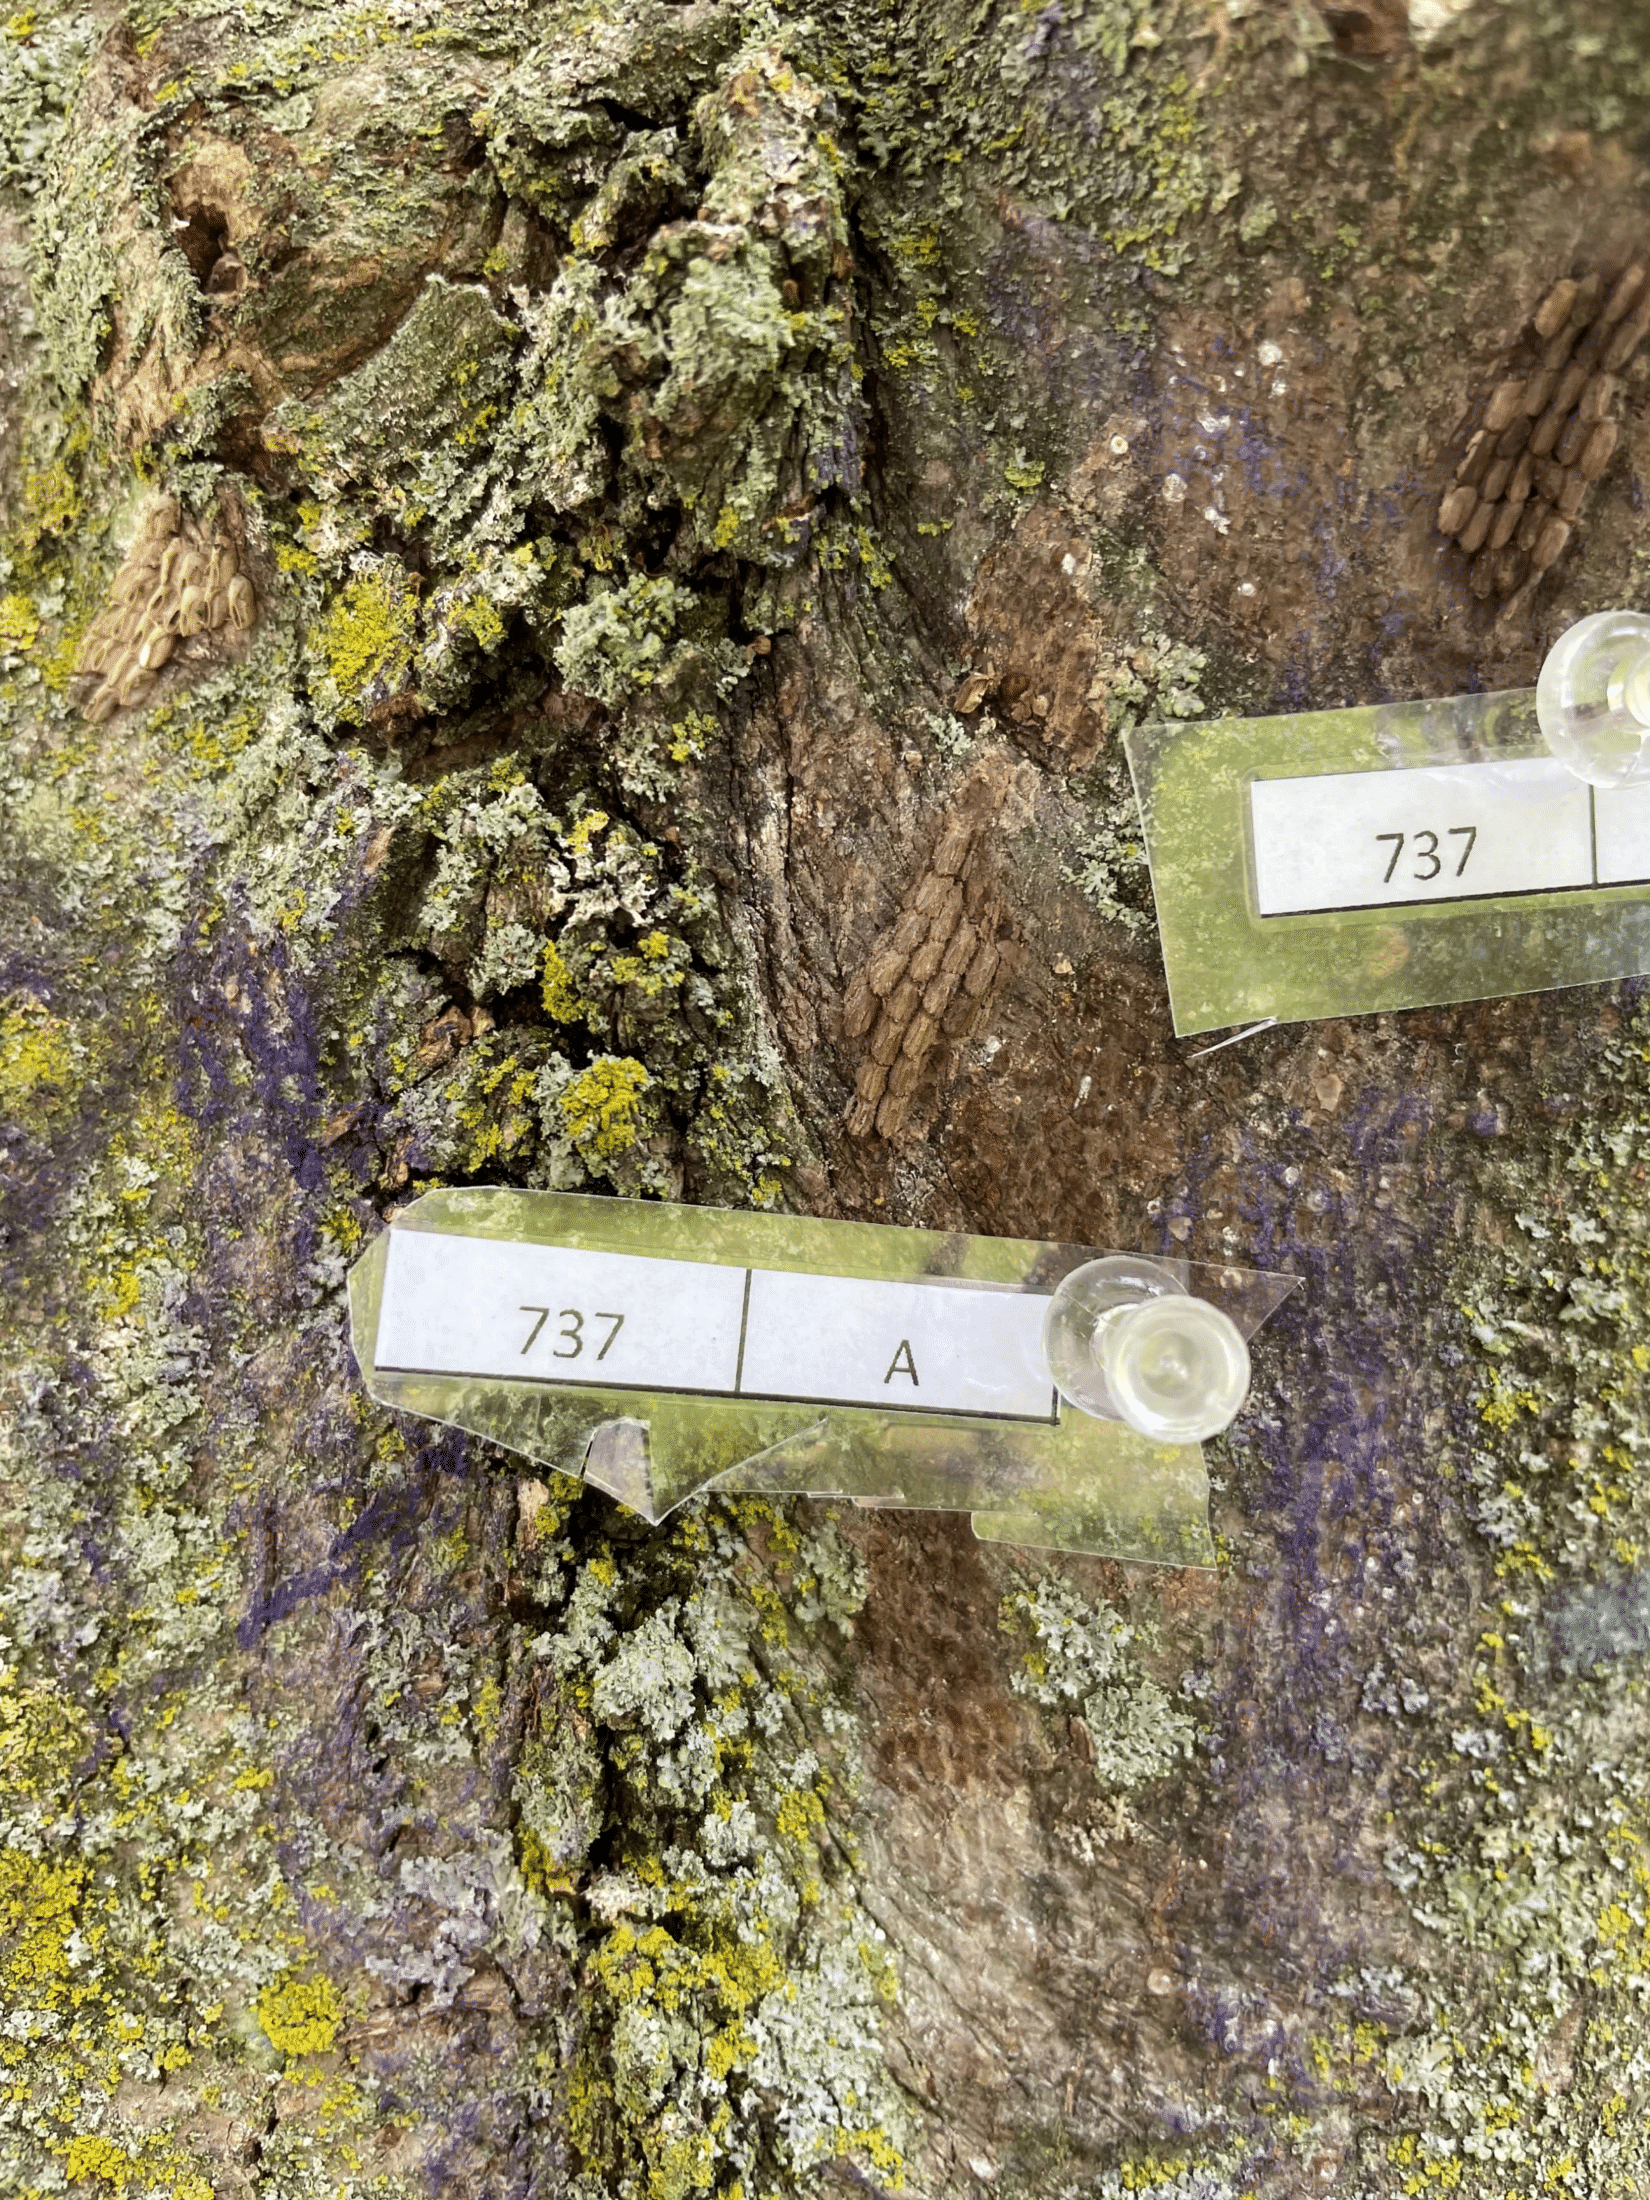egg masses: (1409, 133, 1648, 688), (794, 743, 1076, 1176), (62, 471, 283, 733)
